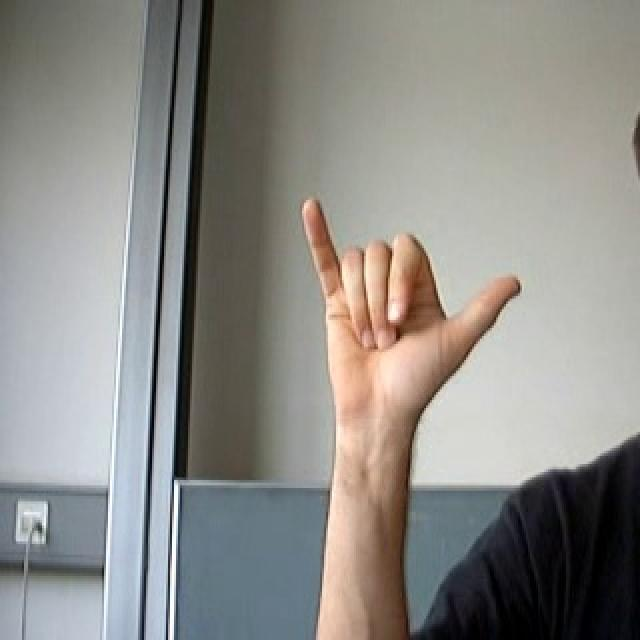Y: (289, 184, 530, 416)
